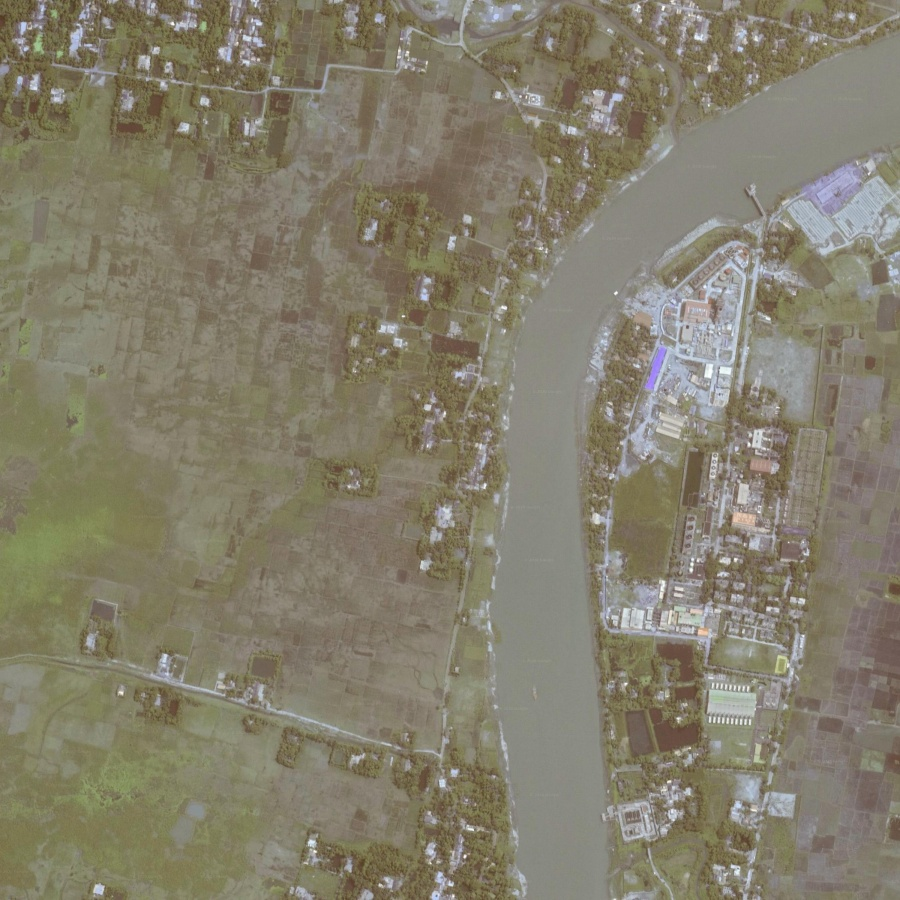PowerPlant: (672, 252, 743, 407)
